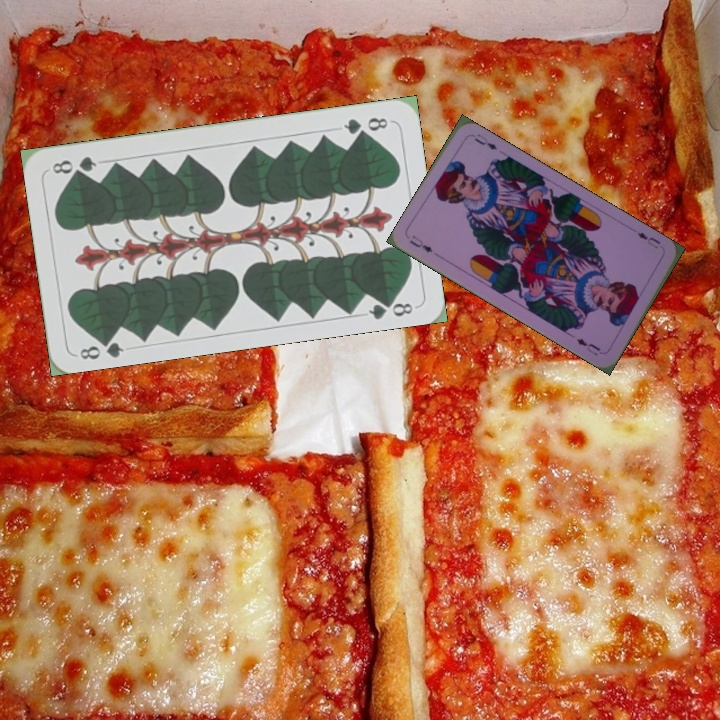EU: (405, 231, 435, 255), (633, 228, 663, 251)
G8: (76, 332, 126, 362), (339, 113, 391, 138)
